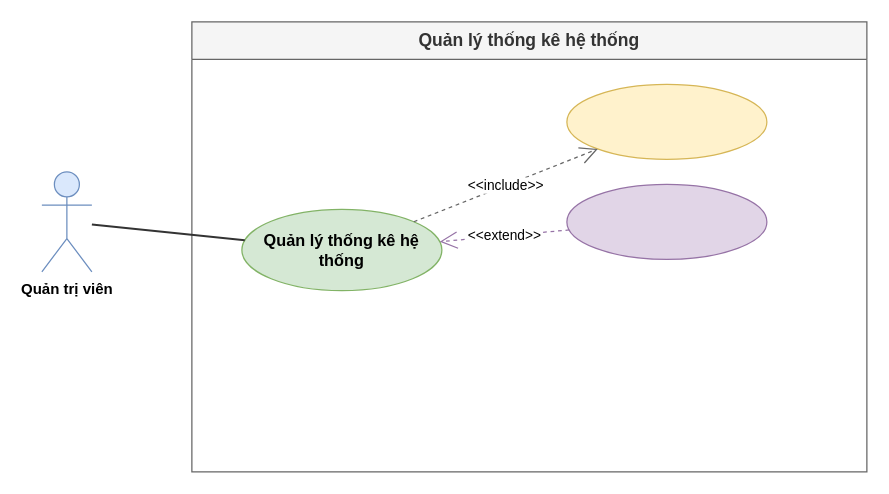
This 889x494 diagram has some shape labels left out. Here are the shapes that lost their labels. From the top down, the centre of each, then its label:
the point at 666,121: Xem Dashboard Admin
the point at 666,221: Lọc số liệu KPI
